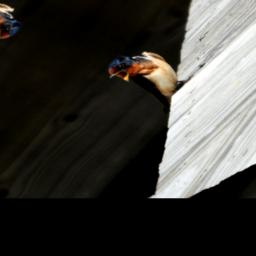Swallow: (92, 42, 201, 104)
